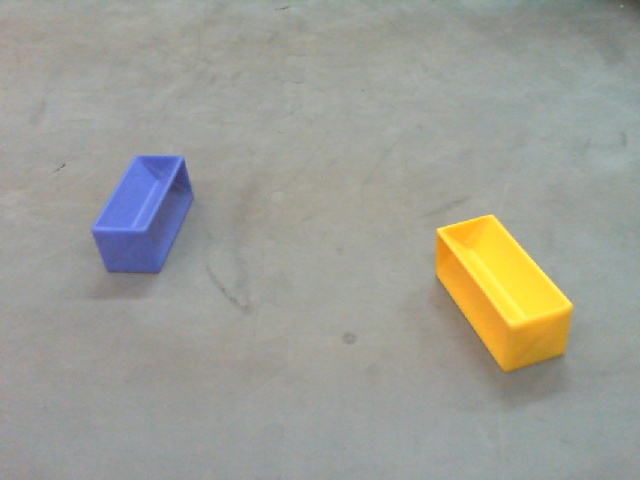BlueSample: (89, 152, 196, 277)
YellowSample: (431, 213, 573, 376)
